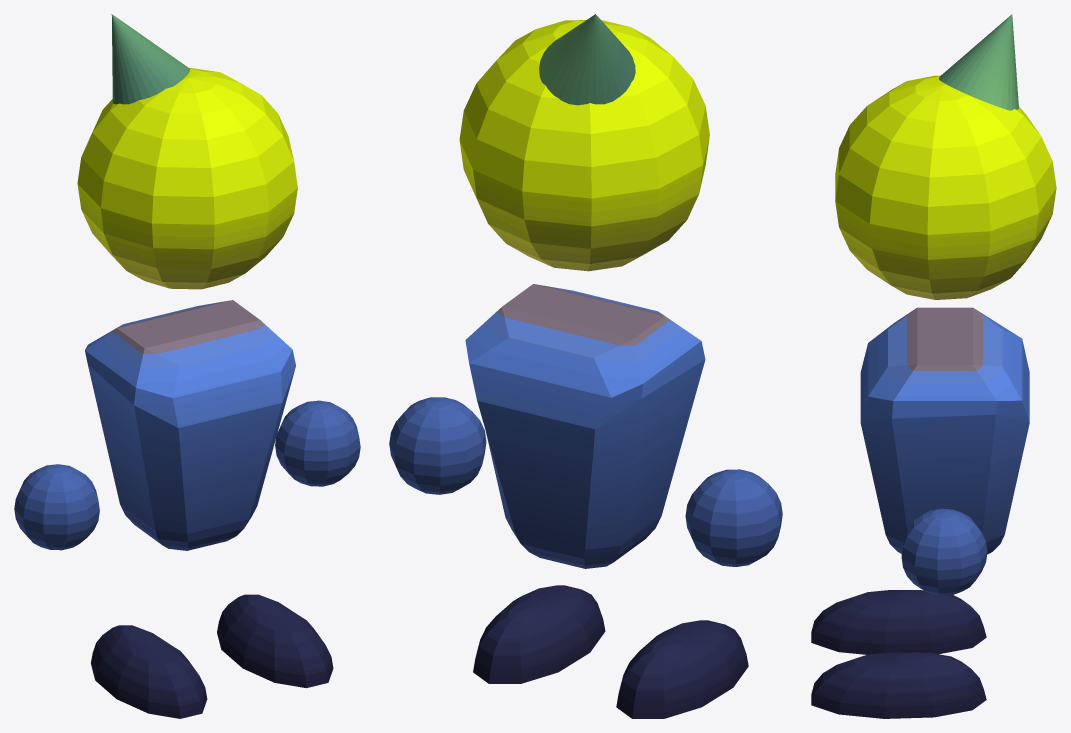
File: Human.fbx
The picture shows the model from 3 angles, left to right: view 1: azimuth 30°, elevation 25°; view 2: azimuth 150°, elevation 25°; view 3: azimuth 270°, elevation 25°; orthographic projection. The views are drawn at different scales.
Visible parts, largest first — view 1: Cone; view 2: Cone; view 3: Cone.
Boxes of the visible parts, x1,y1,x2,y2 form: Cone: (14, 14, 360, 718); Cone: (389, 14, 782, 718); Cone: (811, 14, 1056, 718).
Bounding box in the file's own units: 622 × 1109 × 389.
